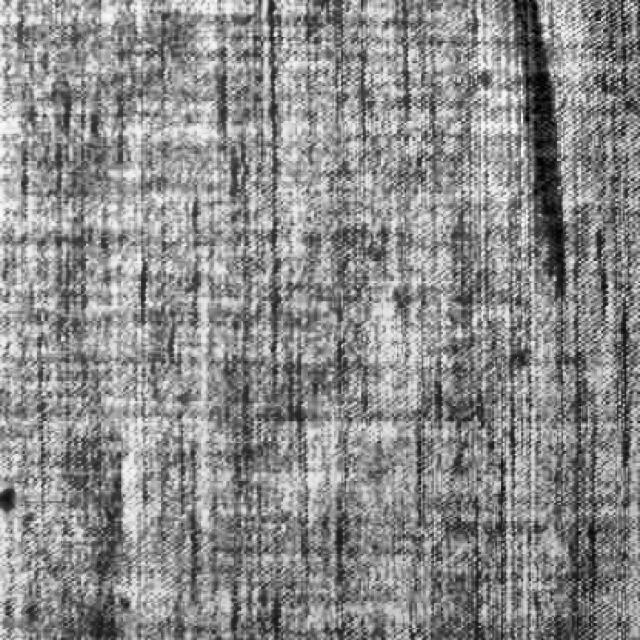oil_spot: (498, 1, 597, 292)
